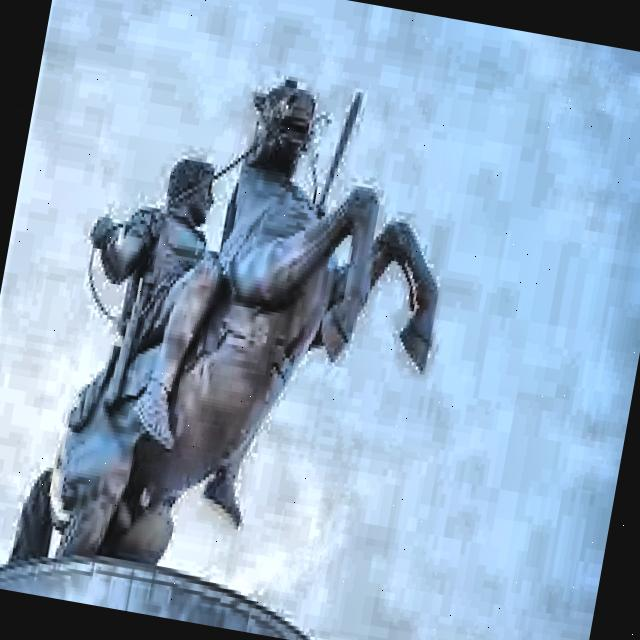alexander the great monument: (0, 38, 477, 640)
